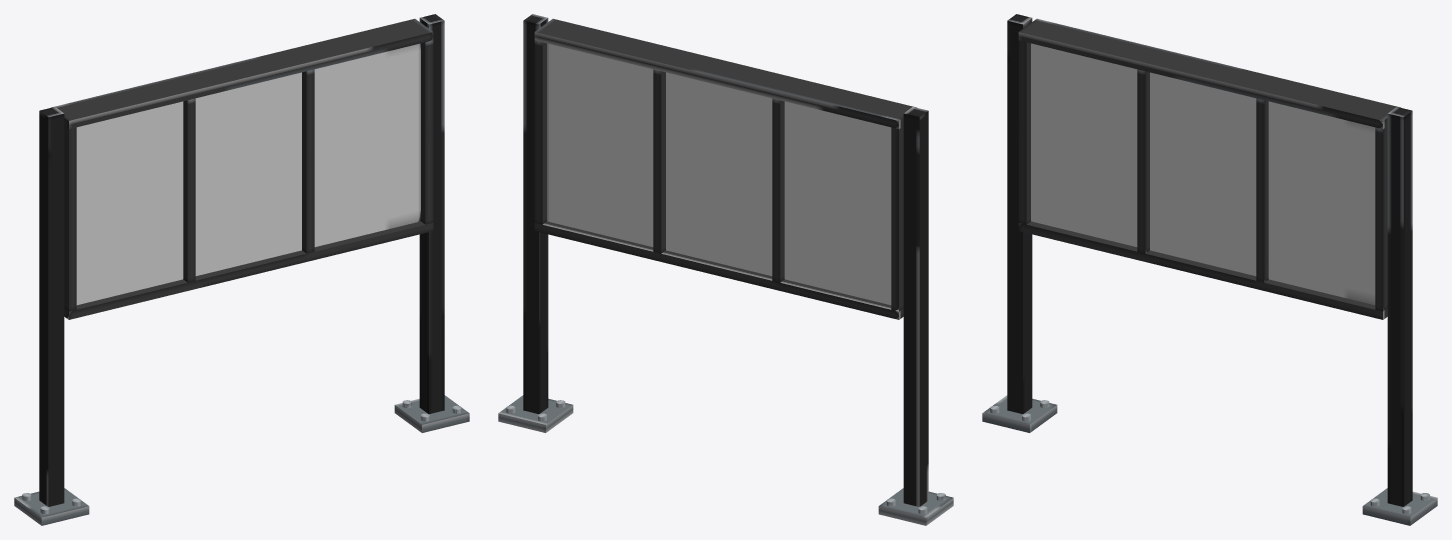
Rendered from nl_schedule_sign_ovg.obj.
3 renders of one model, left to right at view 1: azimuth 30°, elevation 25°; view 2: azimuth 150°, elevation 25°; view 3: azimuth 330°, elevation 25°, orthographic.
Parts seen in each view (by area): view 1: sign_back, pole_right, signedge_top, pole_left, signedge_bottom, signedge_left, signedge_right, signedge_midright, signedge_midleft, foot_left, foot_right; view 2: sign_front, pole_right, signedge_top, pole_left, signedge_bottom, signedge_right, signedge_left, signedge_midright, signedge_midleft, foot_left, foot_right; view 3: sign_back, pole_left, signedge_top, pole_right, signedge_bottom, signedge_left, signedge_right, signedge_midleft, signedge_midright, foot_left, foot_right.
Part boxes in pixels (left/top/right/bottom): sign_back: left=76, top=43, right=420, bottom=305; pole_right: left=39, top=107, right=64, bottom=506; signedge_top: left=51, top=18, right=433, bottom=128; pole_left: left=419, top=14, right=444, bottom=414; signedge_bottom: left=64, top=220, right=433, bottom=319; signedge_left: left=420, top=39, right=433, bottom=224; signedge_right: left=64, top=126, right=76, bottom=311; signedge_midright: left=302, top=69, right=314, bottom=253; signedge_midleft: left=183, top=98, right=195, bottom=282; foot_left: left=394, top=395, right=469, bottom=432; foot_right: left=14, top=488, right=89, bottom=525; sign_front: left=547, top=43, right=891, bottom=305; pole_right: left=903, top=107, right=928, bottom=506; signedge_top: left=534, top=18, right=916, bottom=128; pole_left: left=523, top=14, right=548, bottom=414; signedge_bottom: left=534, top=221, right=903, bottom=319; signedge_right: left=891, top=122, right=903, bottom=311; signedge_left: left=534, top=40, right=546, bottom=224; signedge_midright: left=653, top=69, right=665, bottom=253; signedge_midleft: left=772, top=98, right=784, bottom=282; foot_left: left=498, top=395, right=573, bottom=432; foot_right: left=878, top=488, right=953, bottom=525; sign_back: left=1031, top=43, right=1375, bottom=305; pole_left: left=1387, top=107, right=1412, bottom=506; signedge_top: left=1018, top=18, right=1400, bottom=128; pole_right: left=1007, top=14, right=1032, bottom=414; signedge_bottom: left=1018, top=221, right=1387, bottom=319; signedge_left: left=1375, top=122, right=1387, bottom=311; signedge_right: left=1018, top=40, right=1030, bottom=224; signedge_midleft: left=1137, top=69, right=1149, bottom=253; signedge_midright: left=1256, top=98, right=1268, bottom=282; foot_left: left=1362, top=488, right=1437, bottom=525; foot_right: left=982, top=395, right=1057, bottom=432.
Size of the model in its own units: 3.38 by 3 by 0.375.
1 material, 1 textured.
